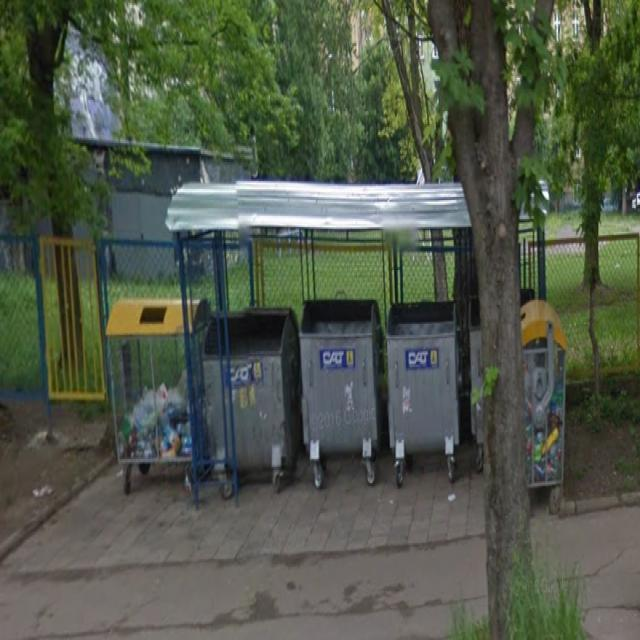general wastetrash bin: (207, 298, 298, 517), (299, 292, 386, 514), (386, 288, 465, 516)
plastic trash bin: (108, 289, 204, 524), (521, 296, 571, 504)
